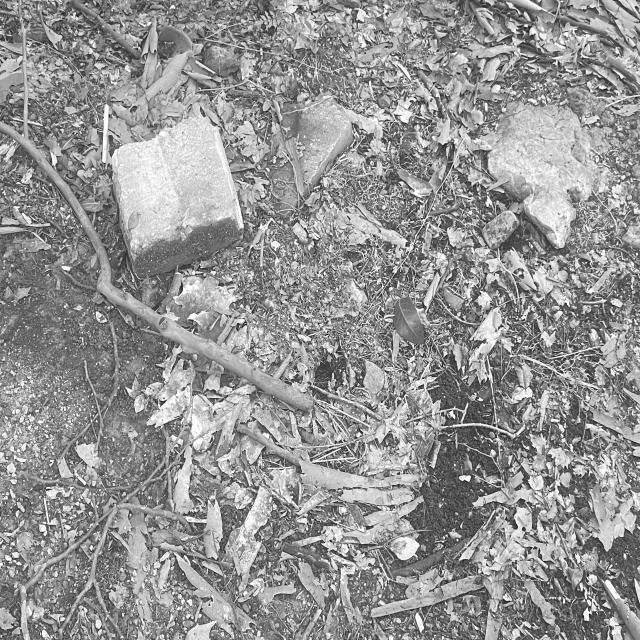Stone: (112, 118, 242, 276), (482, 93, 599, 235)
